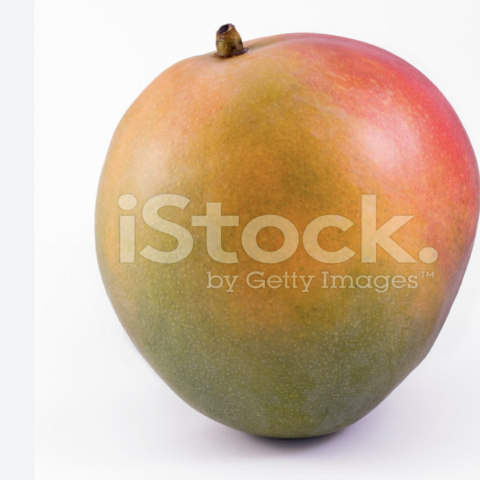mango: (68, 5, 479, 473)
